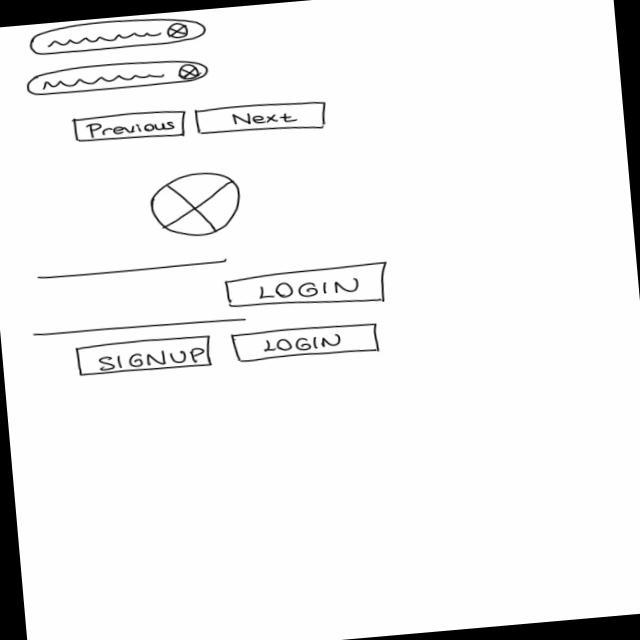button: (220, 258, 392, 316), (230, 316, 384, 365), (73, 331, 217, 379), (192, 96, 328, 140), (70, 104, 191, 147)
image: (144, 166, 246, 241)
label: (402, 0, 463, 5)
